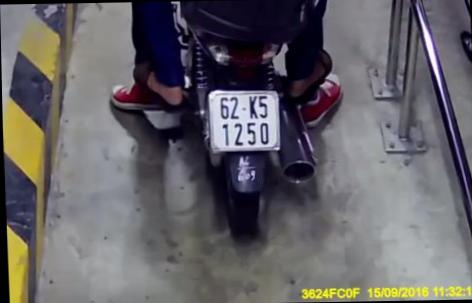LP: (207, 80, 282, 160)
